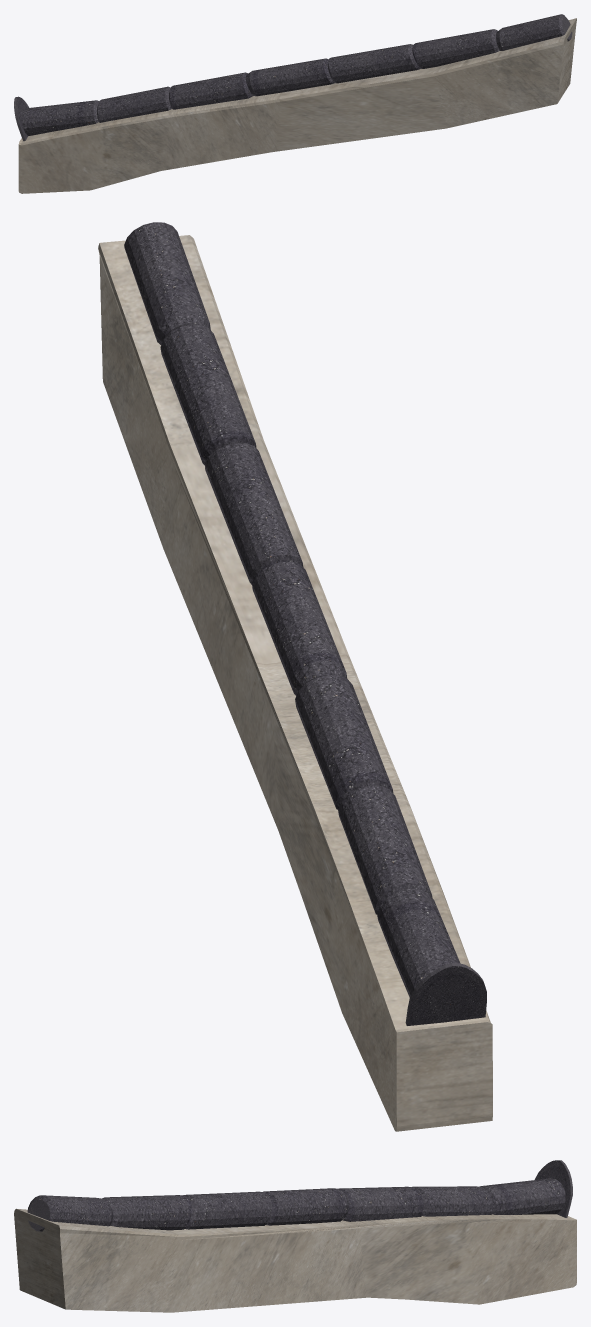
The model's file is SM_R_BeamRoof_18.fbx.
3 renders of one model, top to bottom at view 1: azimuth 30°, elevation 25°; view 2: azimuth 150°, elevation 25°; view 3: azimuth 270°, elevation 25°, orthographic. The views are drawn at different scales.
Visible parts, largest first — view 1: SM_R_BeamRoof_18; view 2: SM_R_BeamRoof_18; view 3: SM_R_BeamRoof_18.
Part boxes in pixels (bbox=[...]): SM_R_BeamRoof_18: bbox=[14, 14, 576, 193]; SM_R_BeamRoof_18: bbox=[98, 222, 492, 1131]; SM_R_BeamRoof_18: bbox=[14, 1160, 576, 1312].
Bounding box in the file's own units: 292 × 289 × 168.
2 materials, 2 textured.
